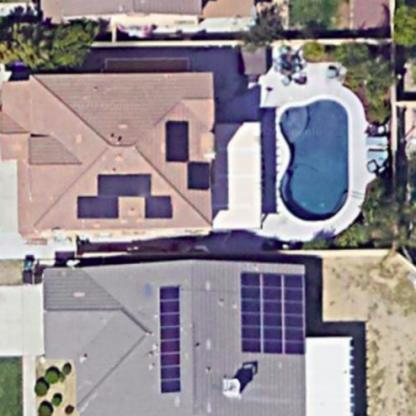solar_panel: (227, 264, 313, 359), (72, 166, 178, 223), (163, 112, 215, 195), (153, 278, 188, 395)
swimming_pool: (269, 78, 361, 236)
